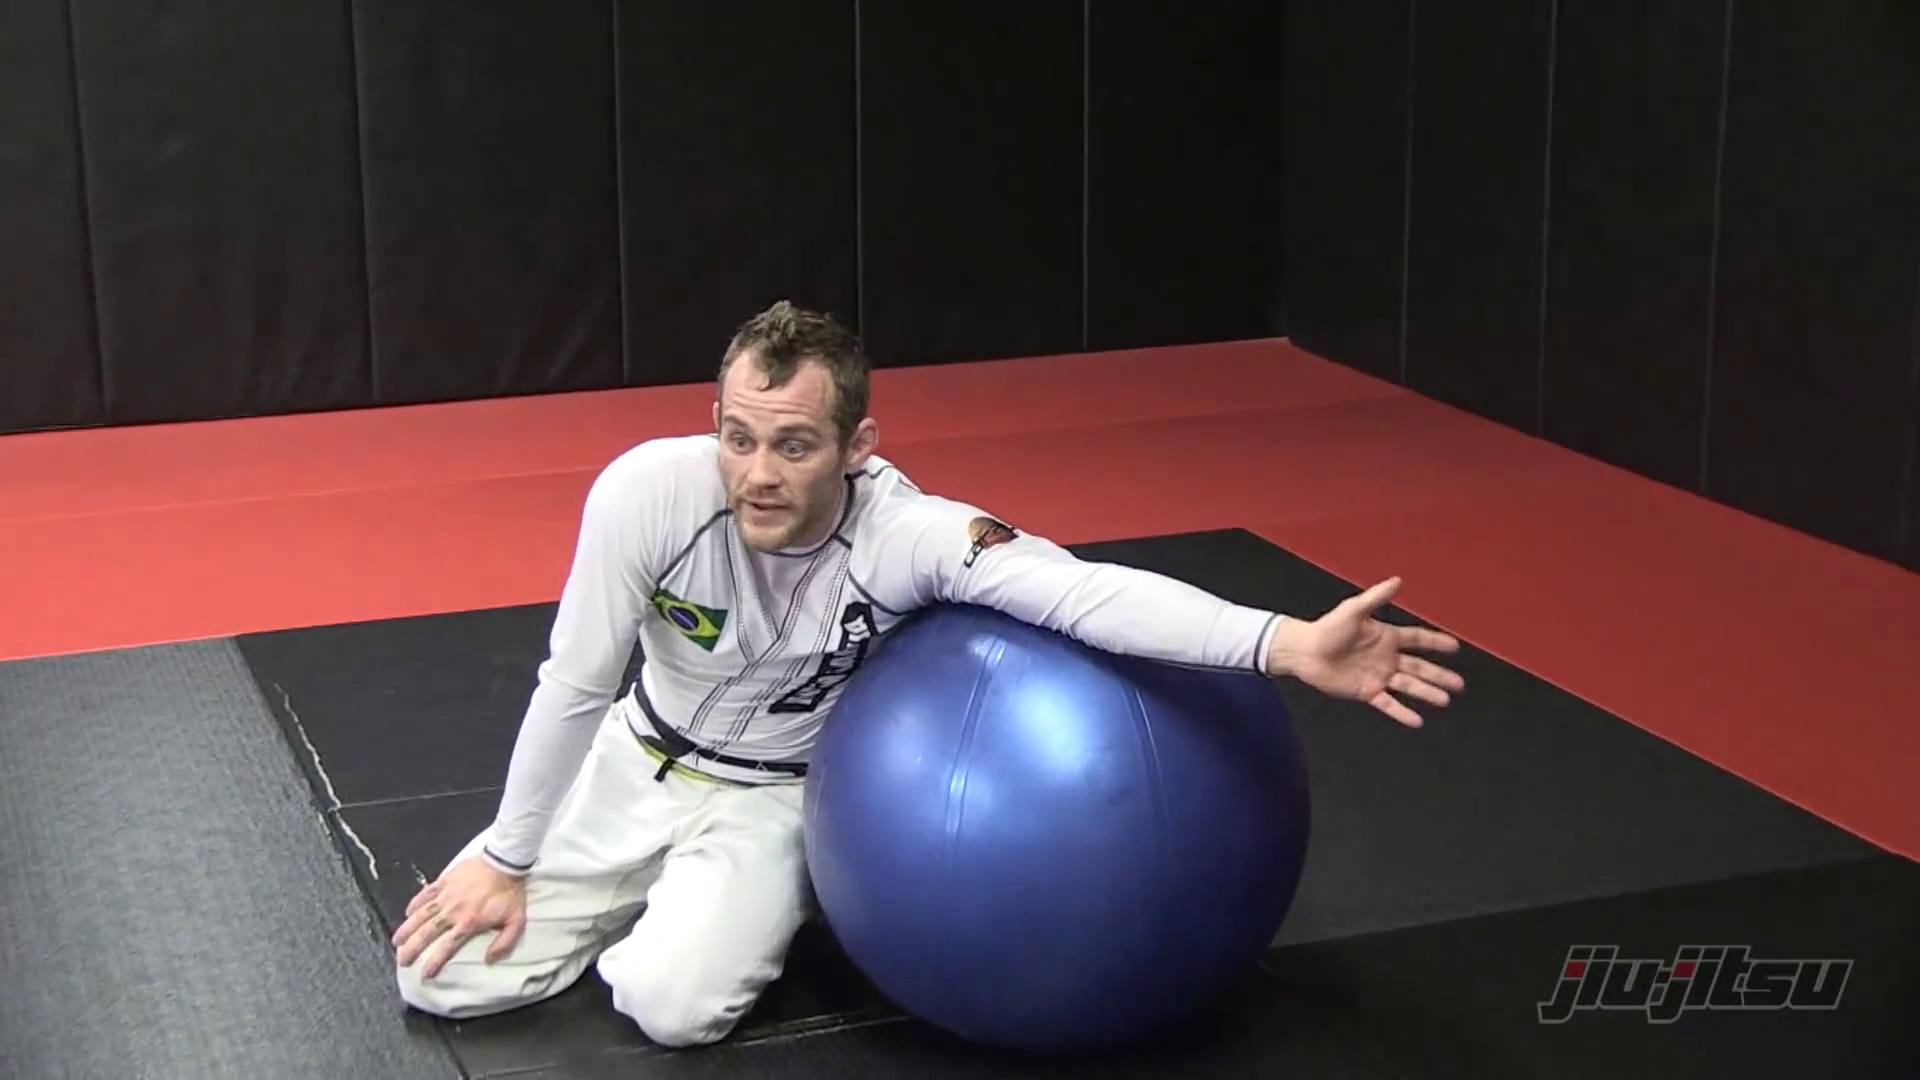yogaball: (795, 592, 1346, 1068)
